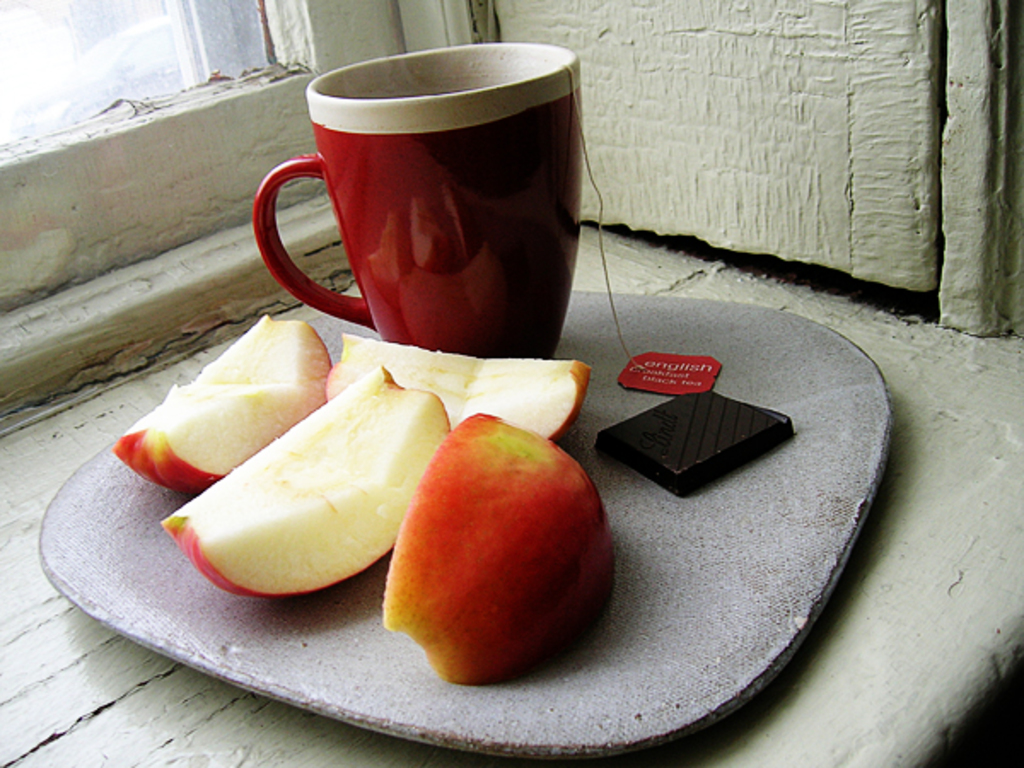Apple: (162, 365, 462, 604), (382, 406, 626, 689), (109, 310, 343, 494), (314, 332, 602, 438)
